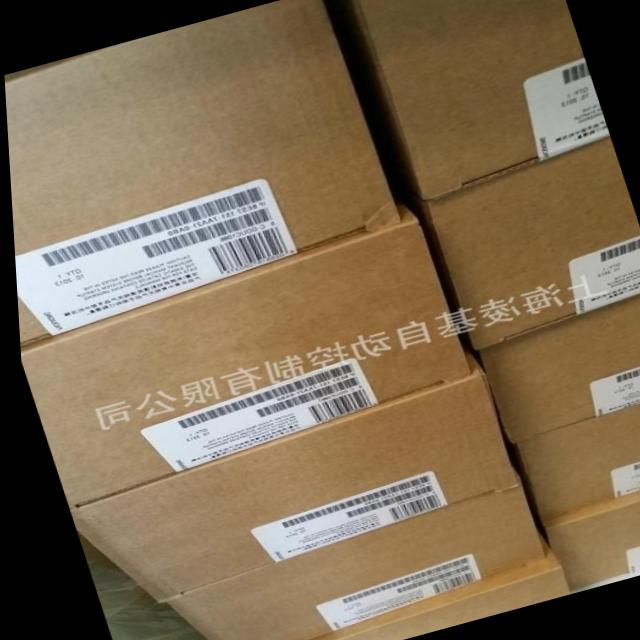box: (16, 202, 468, 504), (4, 0, 399, 342), (63, 361, 510, 604), (159, 480, 536, 640), (327, 0, 608, 207), (419, 135, 640, 351), (474, 293, 640, 443), (304, 550, 560, 640), (511, 403, 640, 521), (535, 491, 640, 588)
